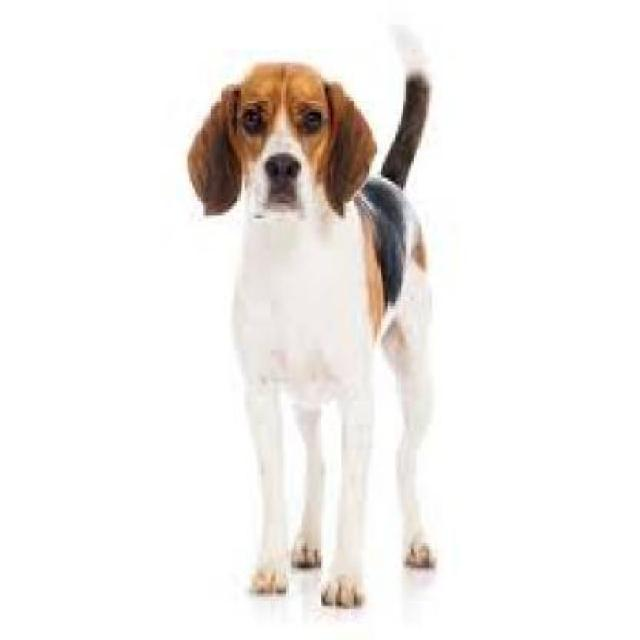Dog: (188, 6, 440, 608)
